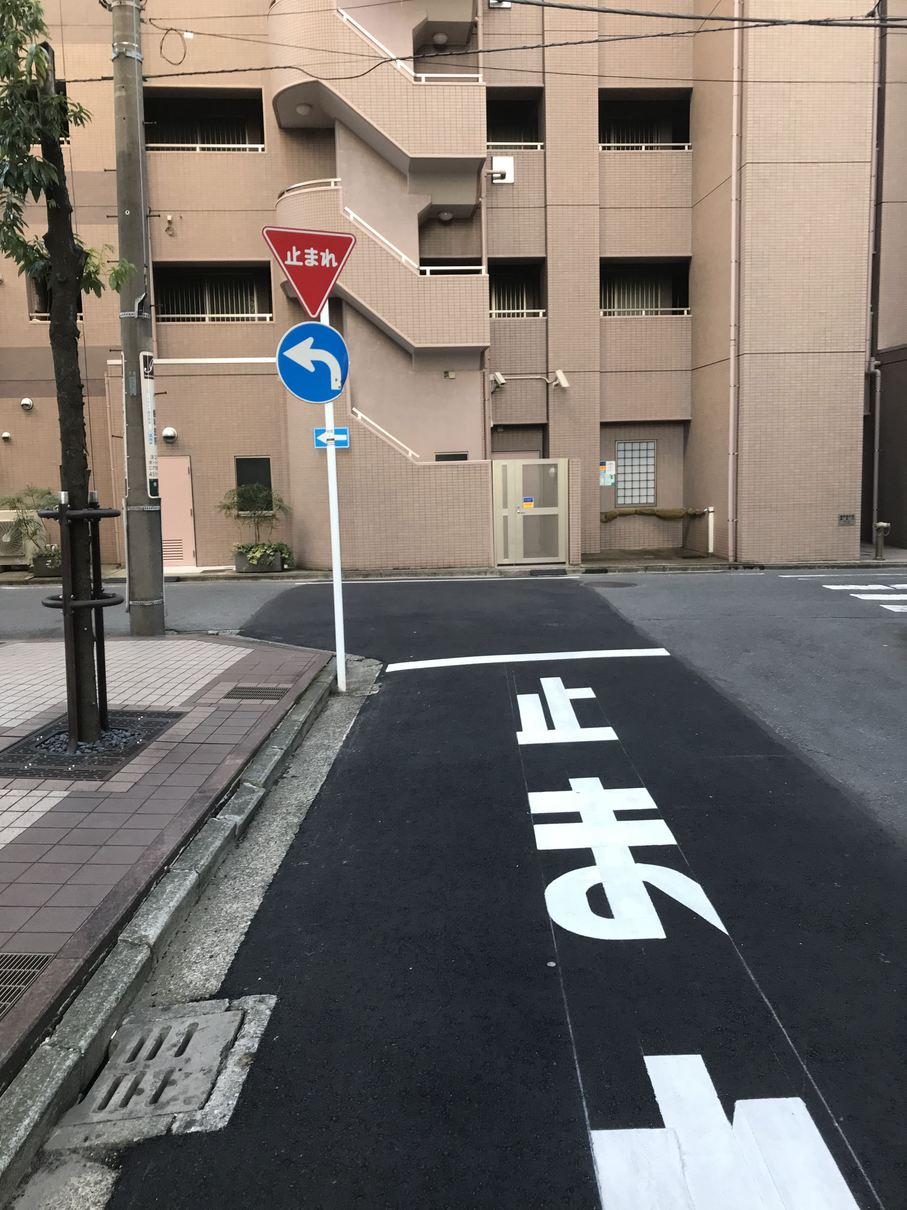stop_sign: (258, 222, 358, 319)
